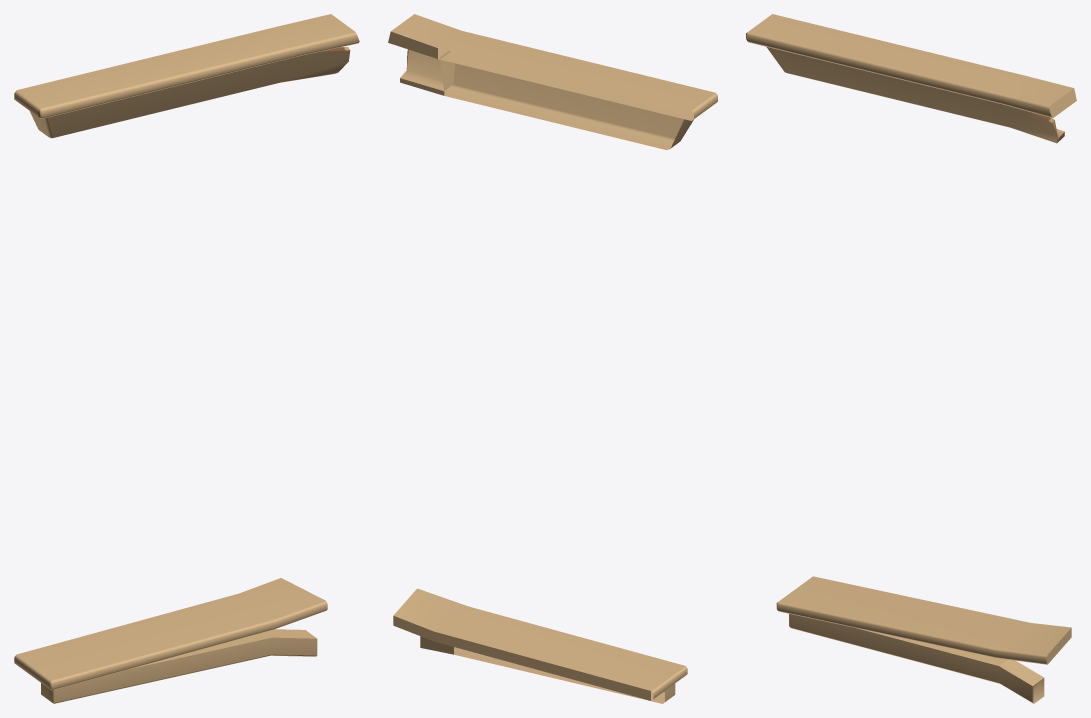
File: DBK_WinBig_Trim_E_Side.fbx
3 renders of one model, left to right at view 1: azimuth 30°, elevation 25°; view 2: azimuth 150°, elevation 25°; view 3: azimuth 330°, elevation 25°, orthographic. The views are drawn at different scales.
Visible parts, largest first — view 1: DBK_WinBig_Trim_E_Side; view 2: DBK_WinBig_Trim_E_Side; view 3: DBK_WinBig_Trim_E_Side.
Part boxes in pixels (box(x1,y1,x2,y2)): DBK_WinBig_Trim_E_Side: box(14, 14, 359, 703); DBK_WinBig_Trim_E_Side: box(388, 14, 717, 703); DBK_WinBig_Trim_E_Side: box(746, 14, 1076, 703).
Size of the model in its own units: 133 by 252 by 36.3.
